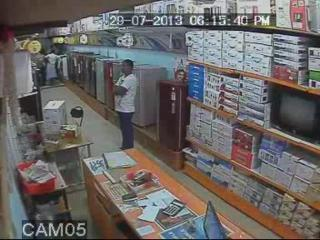Normal: (269, 89, 320, 147), (112, 59, 137, 151)
